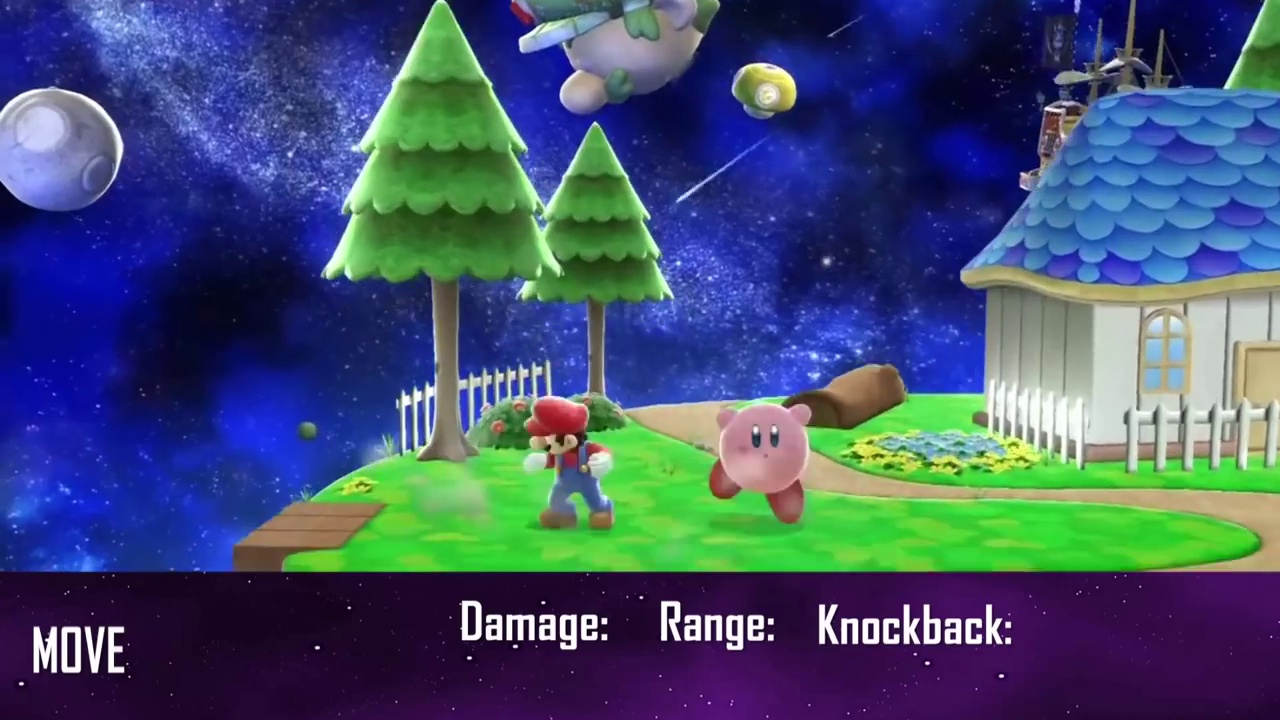Mario: (523, 400, 616, 531)
